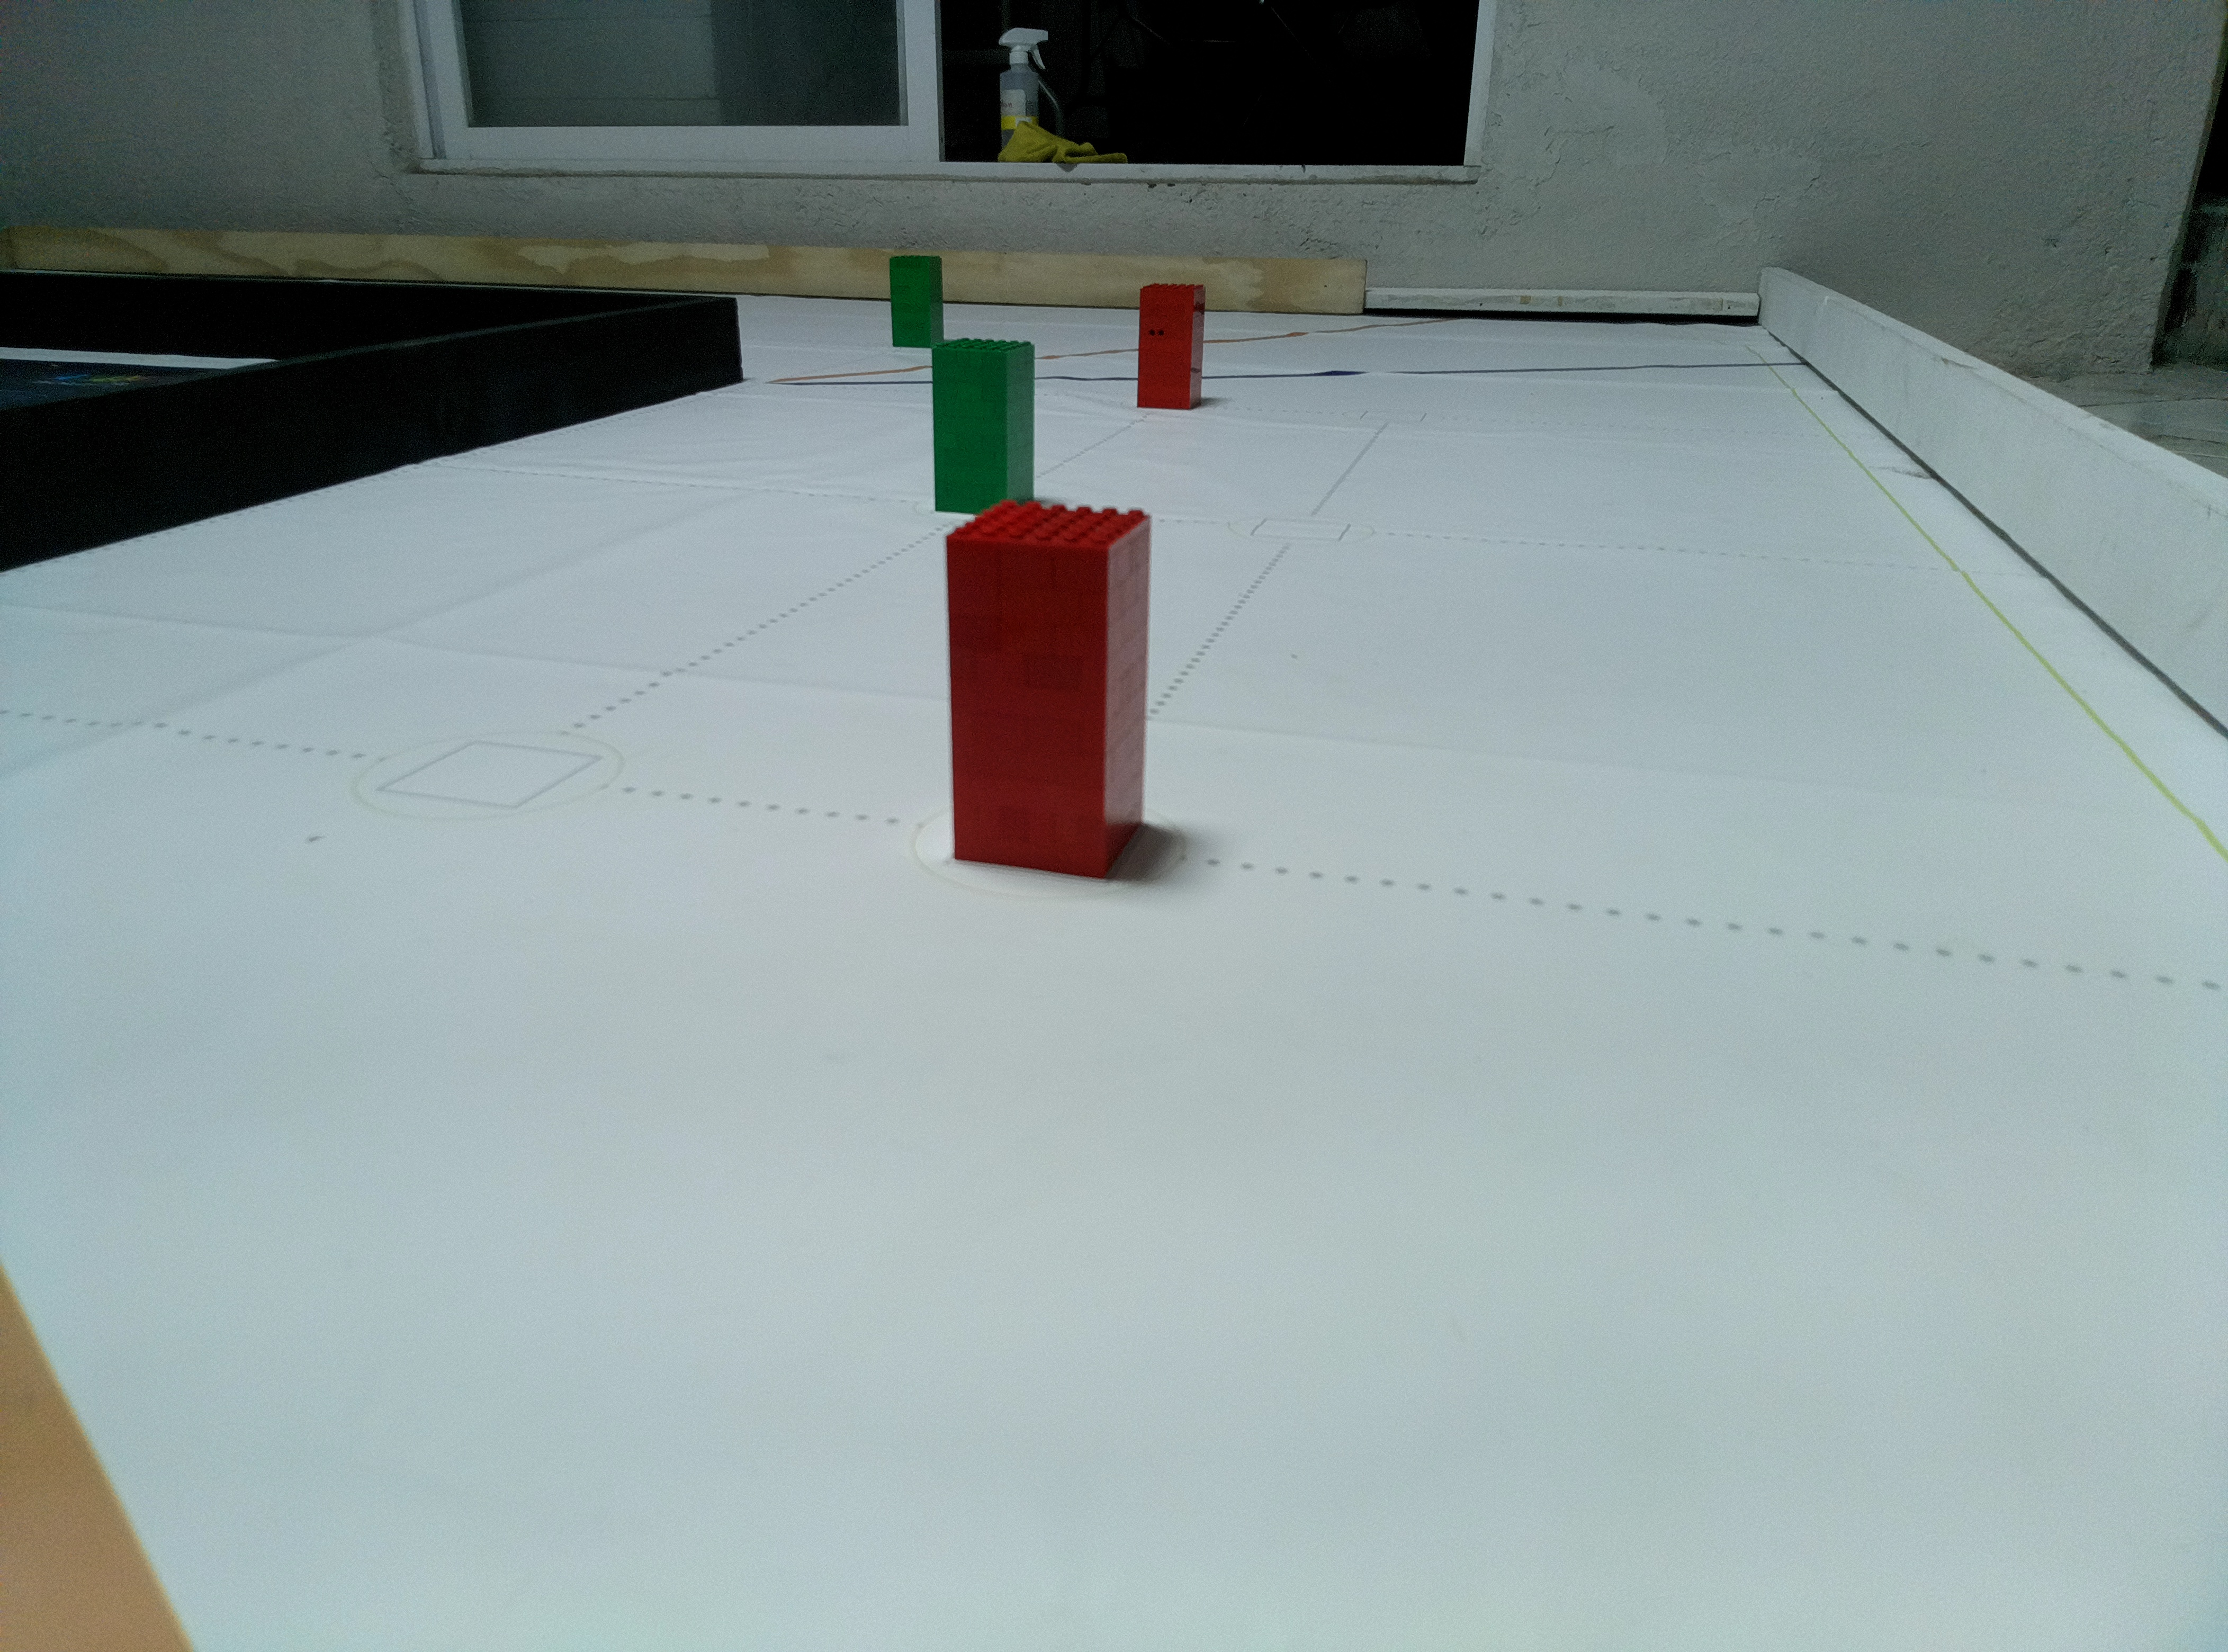greenbox: (928, 333, 1039, 517), (887, 255, 944, 347)
redbox: (944, 493, 1150, 888), (1131, 283, 1206, 410)
